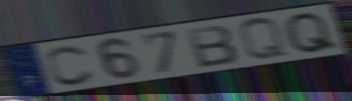6: (94, 35, 141, 81)
7: (140, 28, 183, 76)
B: (184, 23, 240, 69)
C: (44, 44, 97, 87)
Q: (281, 10, 343, 56), (237, 16, 292, 63)
